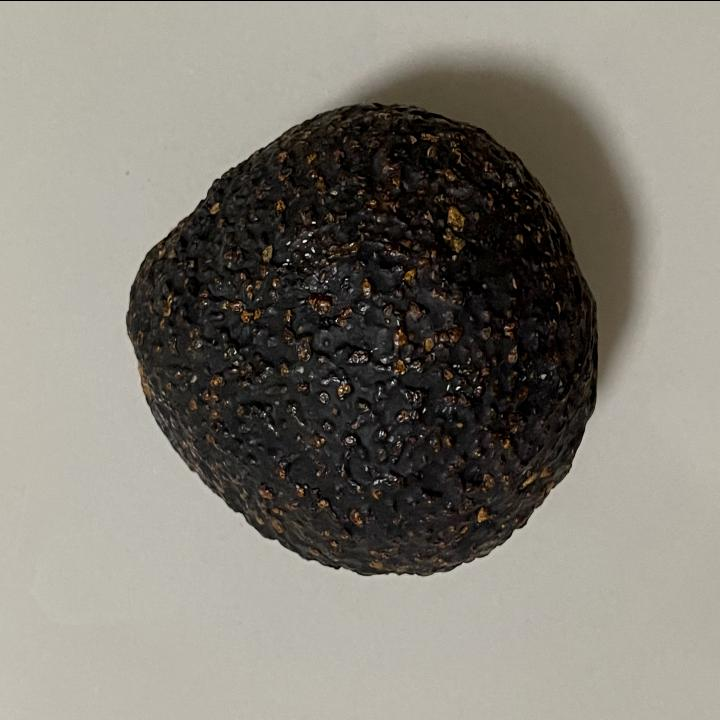Level3: (116, 90, 606, 590)
